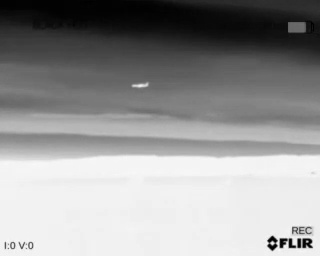AIRPLANE: (129, 79, 151, 91)
